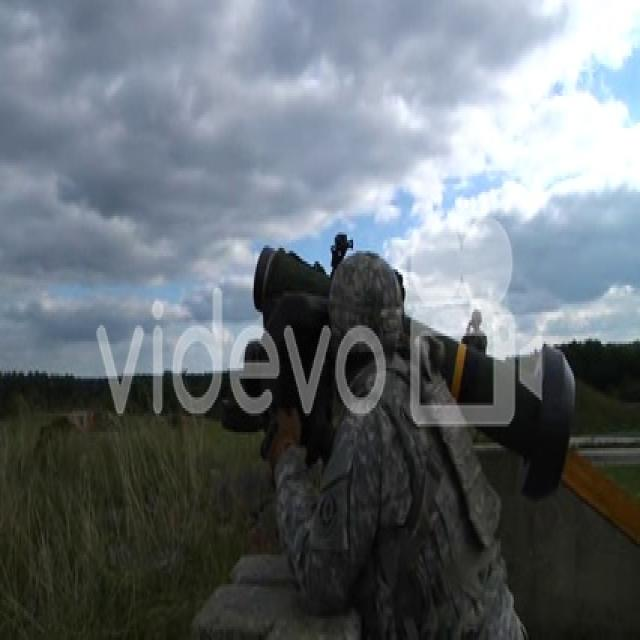bazooka: (246, 239, 583, 517)
